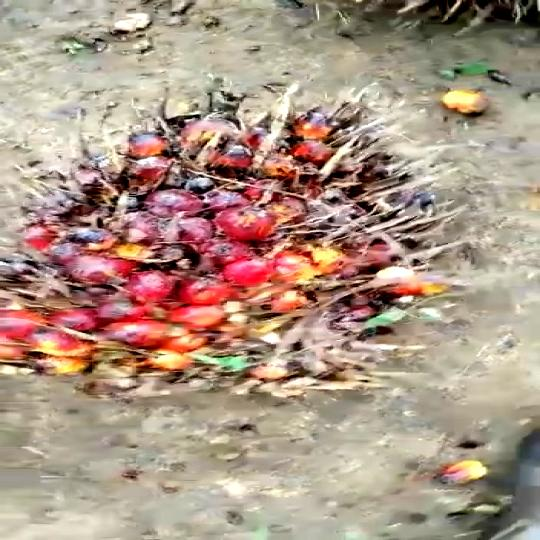masak: (13, 90, 463, 410)
